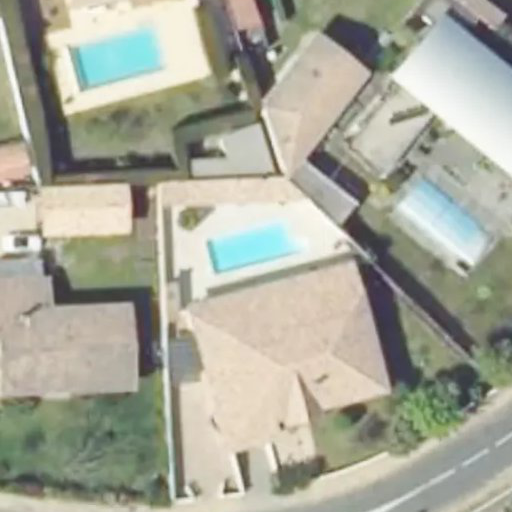pool: (398, 178, 488, 263), (70, 25, 164, 89), (206, 225, 311, 273)
